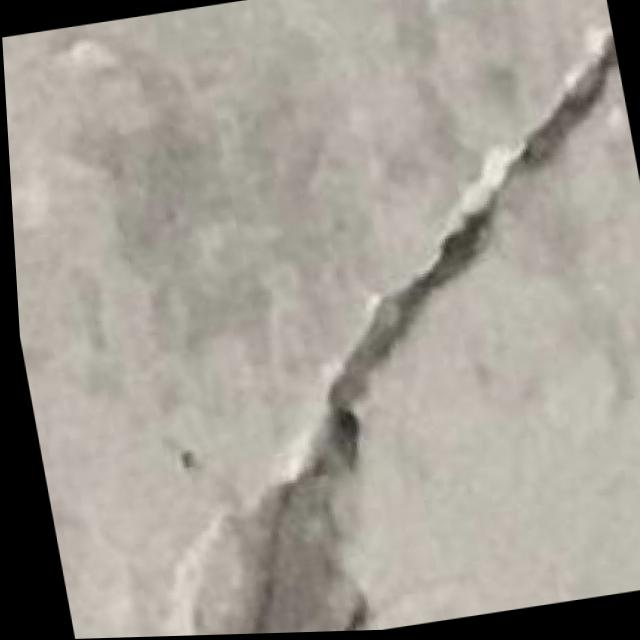Crack: (63, 18, 640, 639)
